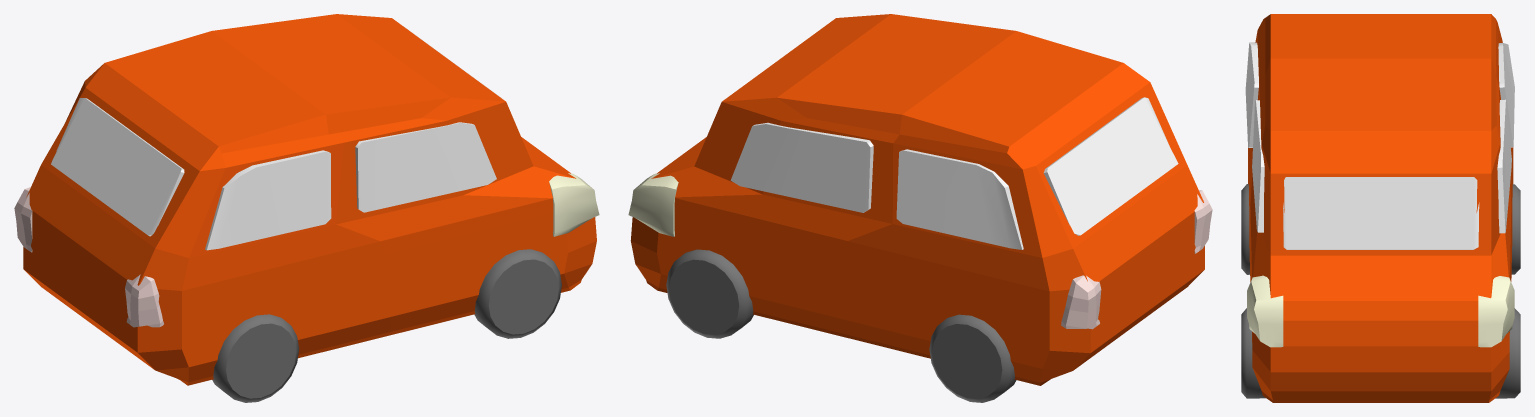
File: CarroRojo.fbx
3 views of the same model, side by side, from view 1: azimuth 30°, elevation 25°; view 2: azimuth 150°, elevation 25°; view 3: azimuth 270°, elevation 25° (orthographic). The views are drawn at different scales.
Visible parts, largest first — view 1: pCube1, pCube10, pCube8, pCube7, pCylinder1, pCylinder2, pCube11, pCube9; view 2: pCube1, pCube10, pCube12, pCube4, pCylinder3, pCylinder4, pCube11, pCube9; view 3: pCube1, pCube6, pCube9, pCube12, pCube8, pCylinder3, pCylinder1, pCube4, pCube7, pCylinder4, pCylinder2.
Boxes of the visible parts, x1,y1,x2,y2 form: pCube1: [23, 14, 596, 385]; pCube10: [51, 98, 184, 236]; pCube8: [355, 122, 496, 212]; pCube7: [205, 150, 331, 250]; pCylinder1: [474, 249, 561, 338]; pCylinder2: [212, 314, 299, 402]; pCube11: [14, 187, 163, 327]; pCube9: [549, 173, 599, 236]; pCube1: [630, 14, 1204, 385]; pCube10: [1043, 97, 1178, 235]; pCube12: [730, 122, 873, 212]; pCube4: [896, 149, 1023, 249]; pCylinder3: [666, 249, 753, 338]; pCylinder4: [929, 314, 1016, 402]; pCube11: [1061, 190, 1212, 329]; pCube9: [628, 173, 678, 236]; pCube1: [1248, 14, 1513, 402]; pCube6: [1283, 177, 1479, 249]; pCube9: [1247, 275, 1514, 347]; pCube12: [1497, 99, 1511, 233]; pCube8: [1252, 100, 1264, 232]; pCylinder3: [1495, 308, 1520, 398]; pCylinder1: [1241, 308, 1265, 398]; pCube4: [1498, 42, 1514, 147]; pCube7: [1245, 42, 1258, 147]; pCylinder4: [1511, 184, 1520, 274]; pCylinder2: [1241, 184, 1249, 274].
Size of the model in its own units: 20.49 by 10.94 by 11.09.
